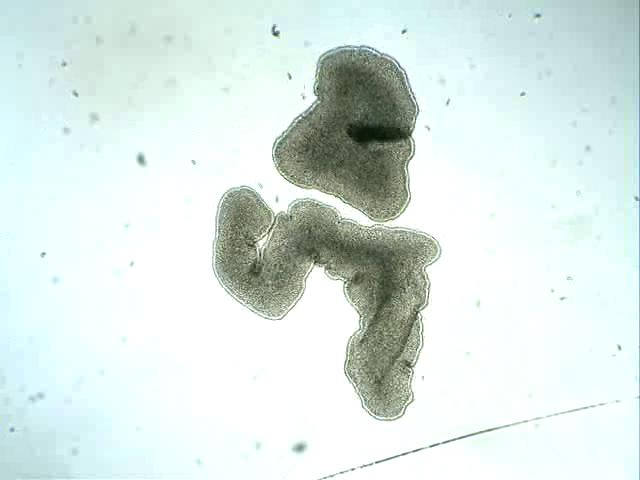Placozoan: (211, 186, 441, 422), (272, 45, 418, 222)
